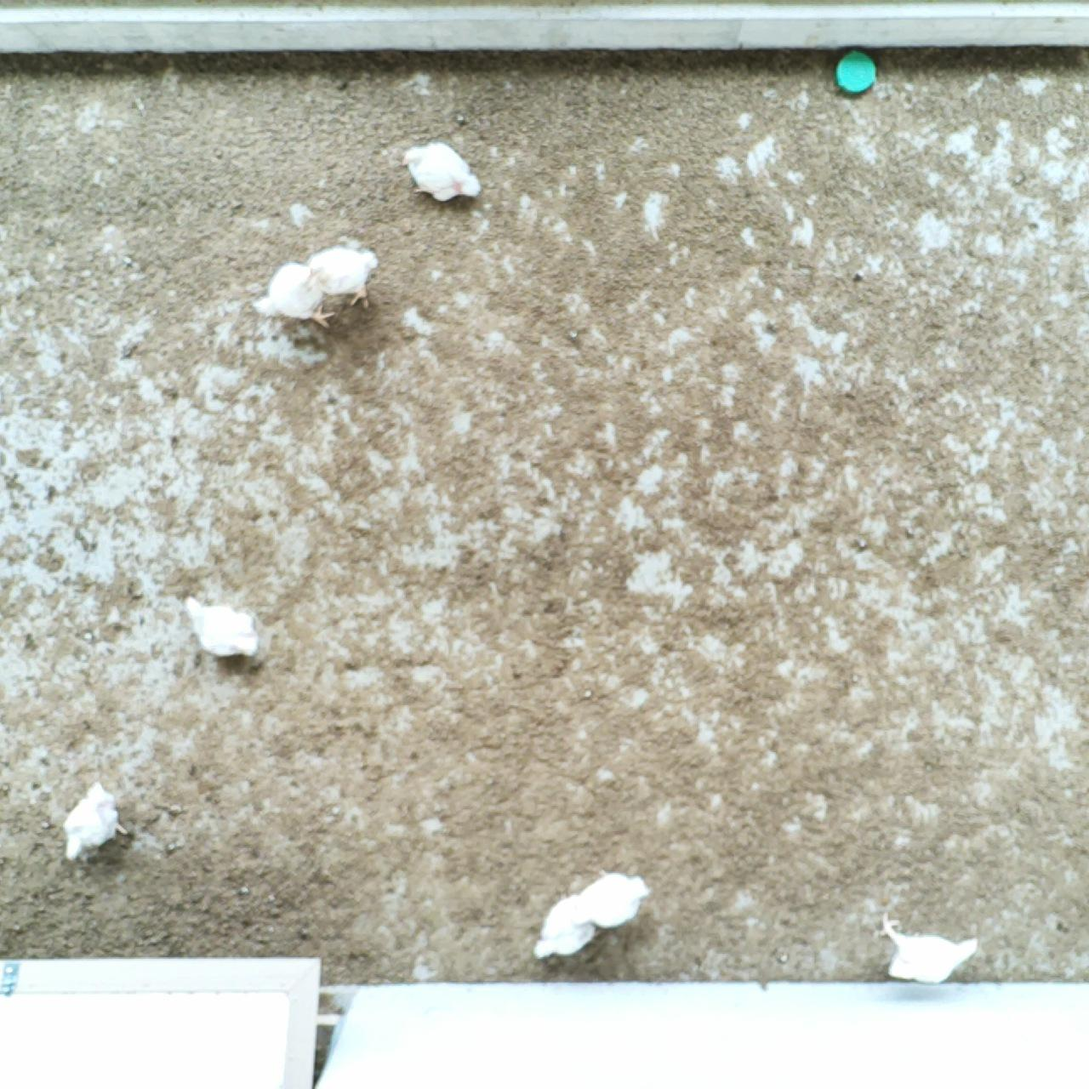chicken: (868, 907, 982, 989), (58, 777, 132, 867), (396, 136, 483, 211), (250, 257, 338, 331), (182, 590, 262, 664), (529, 889, 603, 966), (569, 870, 654, 934), (303, 241, 376, 315)
